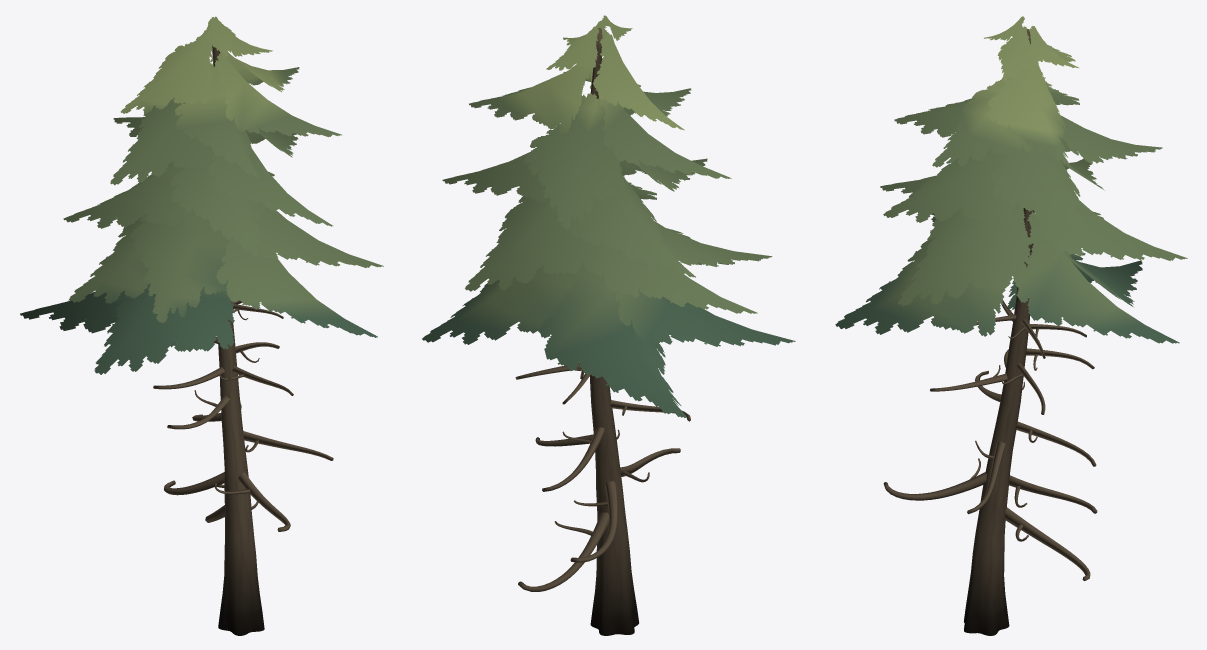
Rendered from conifer-slender-crown.glb.
The picture shows the model from 3 angles, left to right: view 1: azimuth 30°, elevation 25°; view 2: azimuth 150°, elevation 25°; view 3: azimuth 270°, elevation 25°; orthographic projection. The views are drawn at different scales.
Visible parts, largest first — view 1: conifer-slender-crown runtime mesh; view 2: conifer-slender-crown runtime mesh; view 3: conifer-slender-crown runtime mesh.
Boxes of the visible parts, x1,y1,x2,y2 form: conifer-slender-crown runtime mesh: (20, 16, 383, 635); conifer-slender-crown runtime mesh: (422, 15, 795, 635); conifer-slender-crown runtime mesh: (835, 16, 1187, 635).
Bounding box in the file's own units: 2.74 × 5.6 × 3.03.
2 materials, 2 textured.
